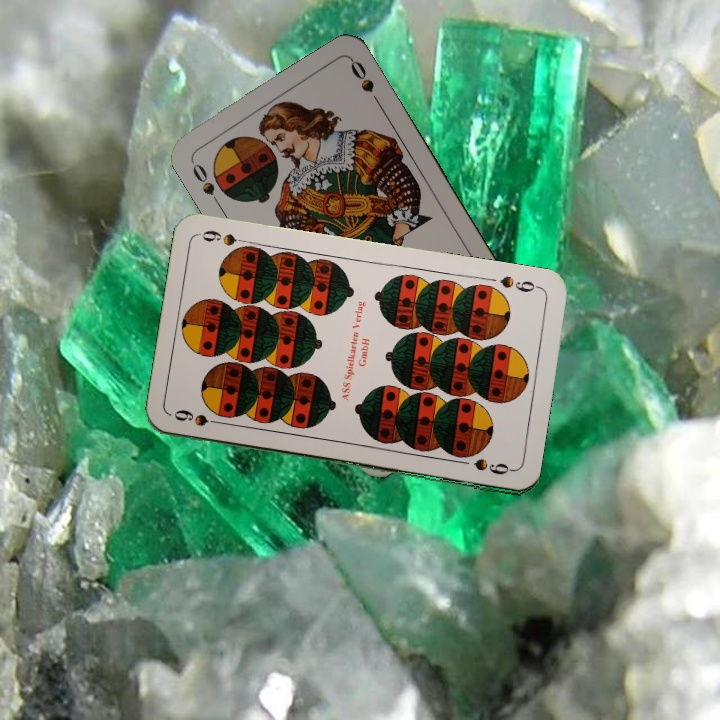S9: (169, 405, 228, 429), (495, 271, 544, 295)
SO: (186, 155, 223, 208)
